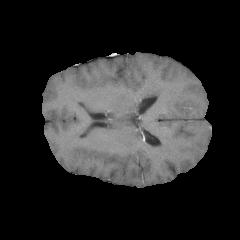glioma: (123, 79, 165, 108)
